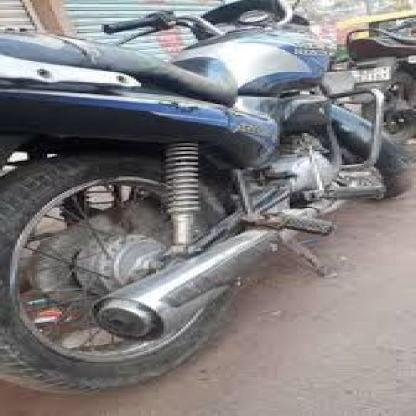bike: (6, 5, 346, 396)
